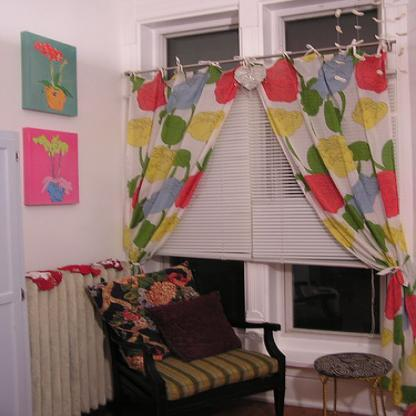chair: (80, 255, 293, 415)
